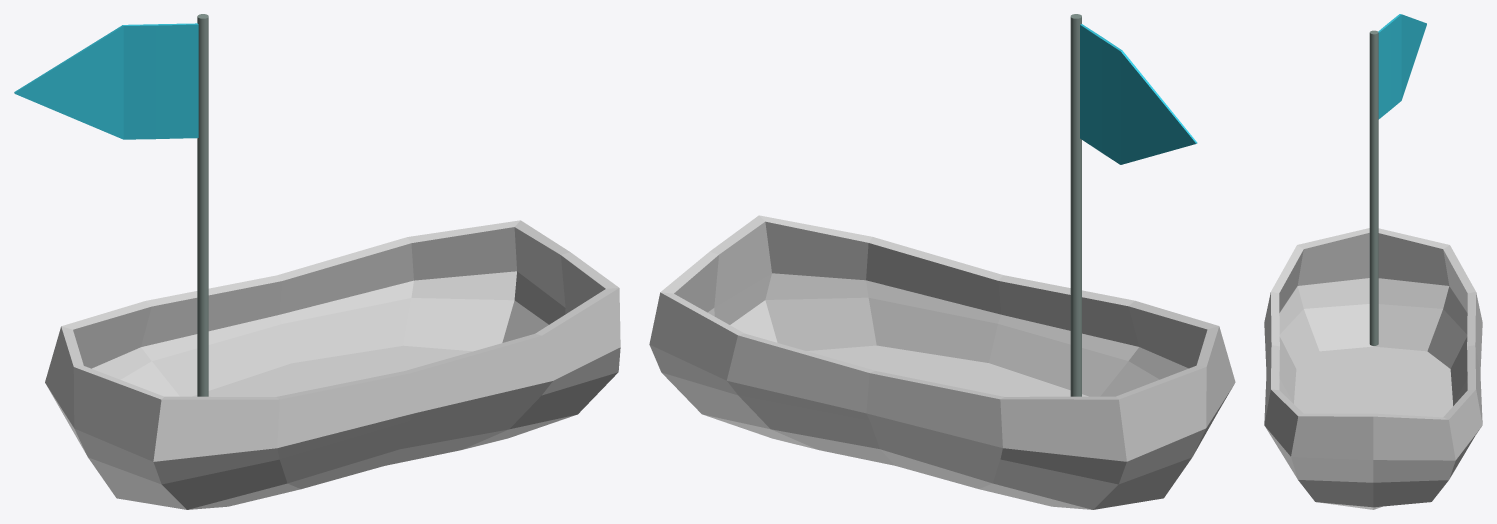
Rendered from boat.fbx.
3 renders of one model, left to right at view 1: azimuth 30°, elevation 25°; view 2: azimuth 150°, elevation 25°; view 3: azimuth 270°, elevation 25°, orthographic. The views are drawn at different scales.
Parts seen in each view (by area): view 1: Sphere, Cube, Cylinder; view 2: Sphere, Cube, Cylinder; view 3: Sphere, Cube, Cylinder.
Boxes of the visible parts, box(x1,y1,x2,y2) form: Sphere: box(45, 220, 620, 509); Cube: box(14, 23, 198, 139); Cylinder: box(197, 14, 208, 396); Sphere: box(649, 215, 1235, 509); Cube: box(1080, 24, 1197, 164); Cylinder: box(1070, 14, 1081, 396); Sphere: box(1264, 228, 1482, 509); Cube: box(1378, 14, 1426, 119); Cylinder: box(1369, 30, 1378, 345).
Bounding box in the file's own units: 274 × 238 × 129.
